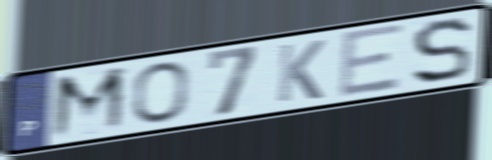7: (206, 43, 260, 119)
E: (337, 21, 407, 102)
K: (273, 37, 328, 106)
M: (47, 63, 130, 143)
O: (130, 59, 191, 125)
S: (409, 15, 474, 87)
